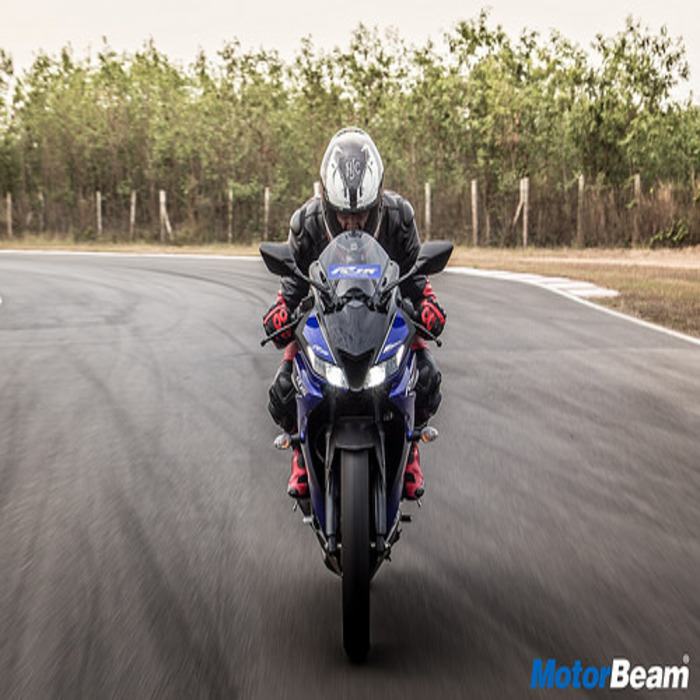h: (316, 122, 389, 267)
